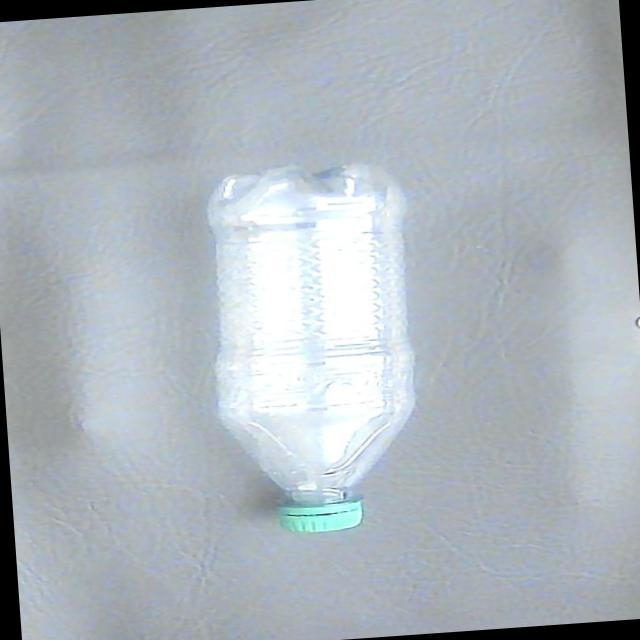good: (192, 156, 437, 541)
